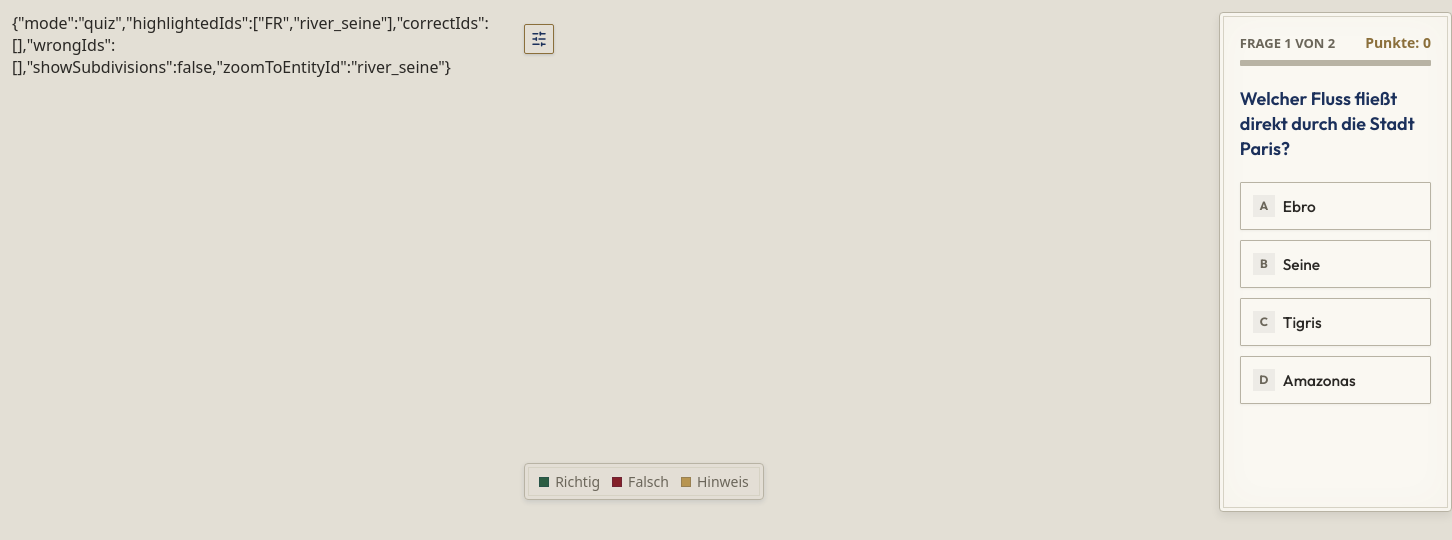
Test: Quiz & Map Integration Test › loads the components, clicks the correct option for city-river question, renders "Weiter" without errors, and transitions to next question
This screenshot has width=1452, height=540.
Expected: the heading "Welcher Fluss fließt direkt durch die Stadt Paris?" is shown, [1240,86,1431,162]
Note: Click option
Click the button "B Seine" at (1335, 264), box [1240,240,1431,288]
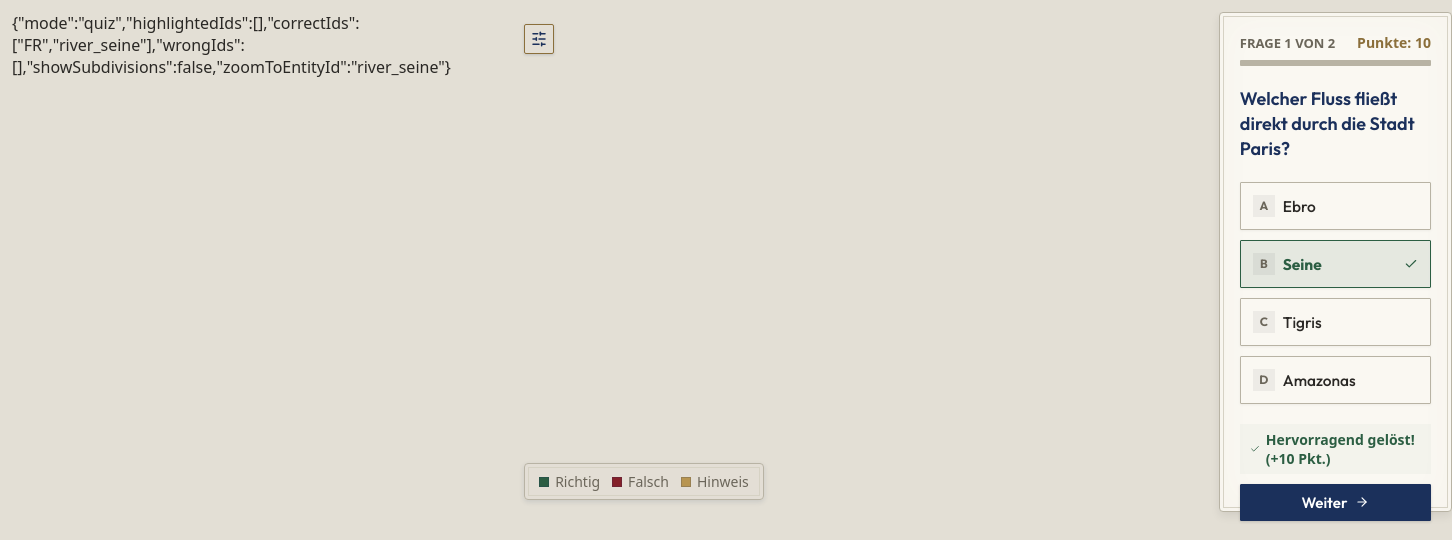
Expected: the button "B Seine" is disabled, [1240,240,1431,288]
Expected: the button "Weiter" is shown
Expected: the text with test id "map-state" shows "\"correctIds\":[\"FR\",\"river_seine\"]", [12,12,451,78]
Note: Click "Weiter" to proceed
Click the button "Weiter" at (1335, 502), box [1240,484,1431,521]
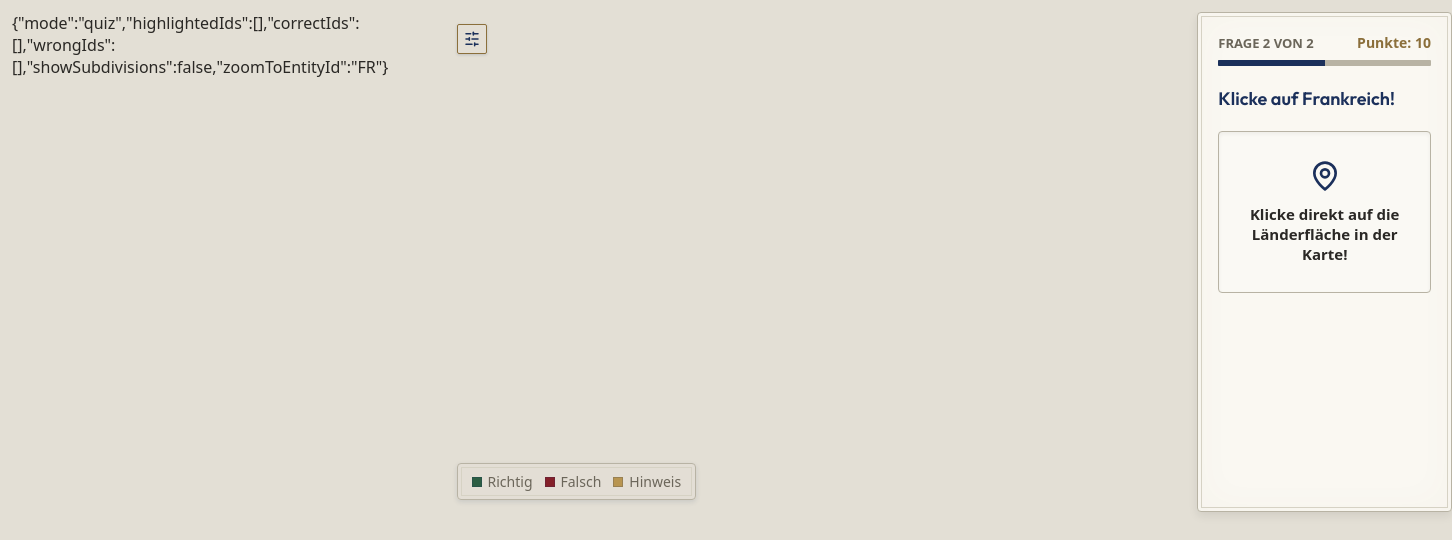
Expected: the heading "Klicke auf Frankreich!" is shown, [1218,87,1395,110]
